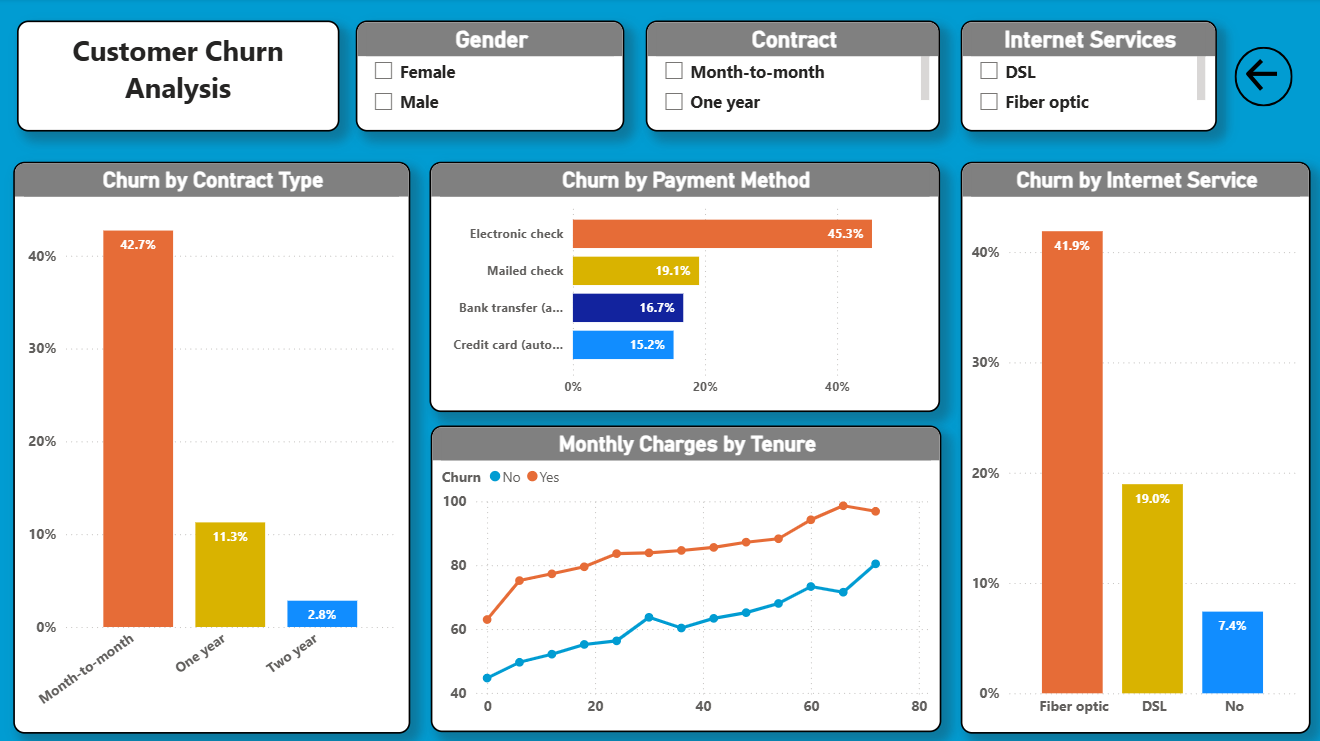

What the dashboard file says about the page in this screenshot:
{"tool":"powerbi","page":{"name":"Churn Analysis","canvas":[1280,720],"ordinal":1},"visuals":[{"type":"clusteredColumnChart","title":"Churn by Contract Type","fields":{"Category":["Churn_dataset.Contract"],"Y":["Churn_dataset.Churn Rate"]},"box":[15.1,157.8,382.8,551.6],"z":0},{"type":"clusteredBarChart","title":"Churn by Payment Method","fields":{"Category":["Churn_dataset.PaymentMethod"],"Y":["Churn_dataset.Churn Rate"]},"box":[417.2,157.8,492.6,241.5],"z":1000},{"type":"clusteredColumnChart","title":"Churn by Internet Service","fields":{"Category":["Churn_dataset.InternetService"],"Y":["Churn_dataset.Churn Rate"]},"box":[930.4,157.8,337.6,551.6],"z":2000},{"type":"lineChart","title":"Monthly Charges by Tenure","fields":{"Y":["Churn_dataset.Avg Monthly Charges"],"Category":["Churn_dataset.tenure (bins)"],"Series":["Churn_dataset.Churn"]},"box":[418.5,413,492.6,296.4],"z":3000},{"type":"textbox","box":[19.2,22,311.5,107],"z":4000},{"type":"shape","box":[1193.8,46.7,56.3,57.6],"z":5000},{"type":"actionButton","box":[1202.1,54.9,42.5,39.8],"z":6000},{"type":"slicer","title":"Gender","fields":{"Values":["Churn_dataset.gender"]},"box":[345.8,22,259.3,107],"z":7000},{"type":"slicer","title":"Contract","fields":{"Values":["Churn_dataset.Contract"]},"box":[625.7,22,284,107],"z":8000},{"type":"slicer","title":"Internet Services","fields":{"Values":["Churn_dataset.InternetService"]},"box":[930.4,22,247,107],"z":9000}]}

Visuals, with their boxes in screenshot pixels (x1, y1, x2, y2), scaled from the page's 1280x720 canvas onto the 1320x741 screenshot:
"Churn by Contract Type" clusteredColumnChart: (16,162,410,730)
"Churn by Payment Method" clusteredBarChart: (430,162,938,411)
"Churn by Internet Service" clusteredColumnChart: (959,162,1308,730)
"Monthly Charges by Tenure" lineChart: (432,425,940,730)
textbox: (20,23,341,133)
shape: (1231,48,1289,107)
actionButton: (1240,57,1283,97)
"Gender" slicer: (357,23,624,133)
"Contract" slicer: (645,23,938,133)
"Internet Services" slicer: (959,23,1214,133)
